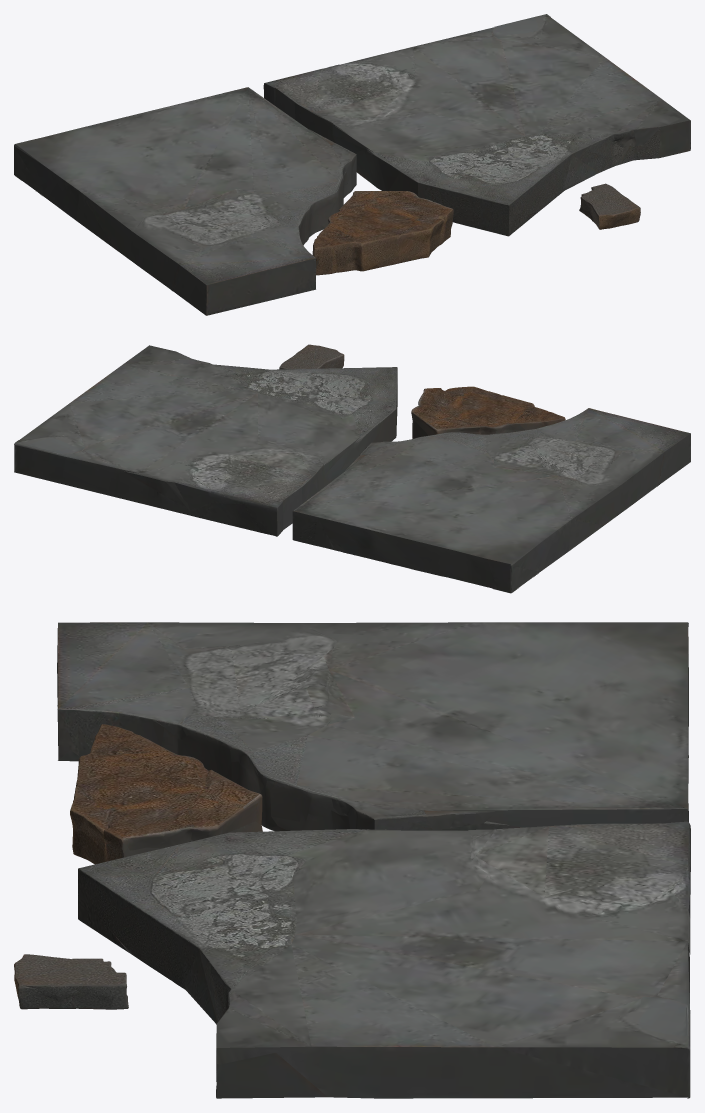
Rendered from collapsed_concrete_slab.glb.
The picture shows the model from 3 angles, top to bottom: view 1: azimuth 30°, elevation 25°; view 2: azimuth 150°, elevation 25°; view 3: azimuth 270°, elevation 25°; orthographic projection. The views are drawn at different scales.
Size of the model in its own units: 1.9 by 0.1108 by 1.28.
1 material, 1 textured.
